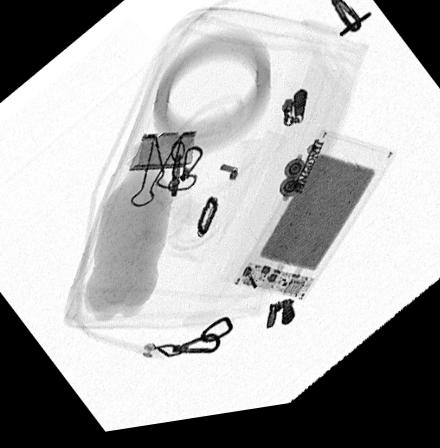Powerbank: (232, 140, 396, 311)
